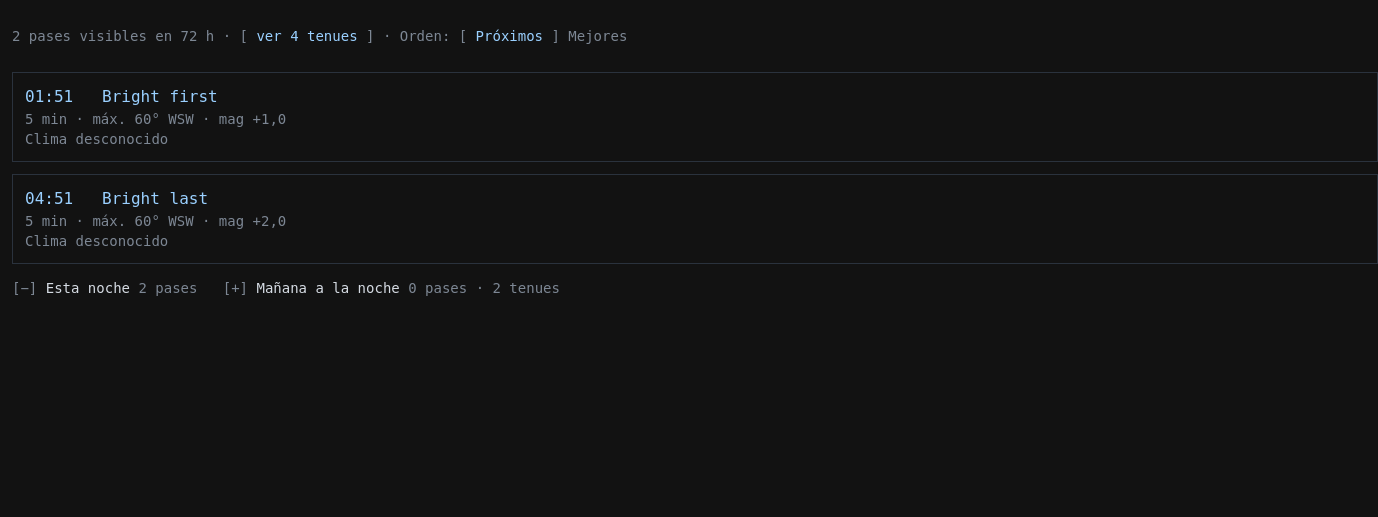
Test: <PassList> faint passes (FR-FAINT-2) › words the line and the control in Spanish in both states
Expected: the message reads "2 pases visibles en 72 h", [12,28,214,44]
Click the button with test id "faint-toggle". click: (307, 36)
box: [240,14,374,58]
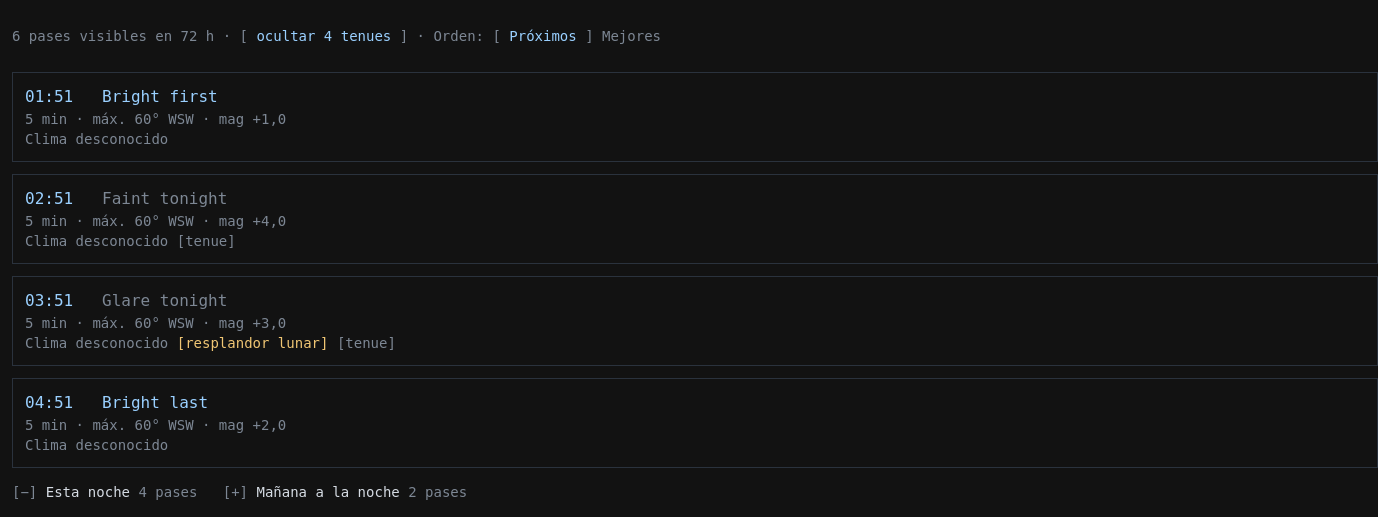
Expected: the message reads "6 pases visibles en 72 h", [12,28,214,44]
Expected: the button with test id "faint-toggle" reads "ocultar 4 tenues", [240,14,408,58]
Expected: the text with test id "card-faint" below "5 min · máx. 60° WSW · mag +4,0" reads "tenue", [185,233,227,249]
